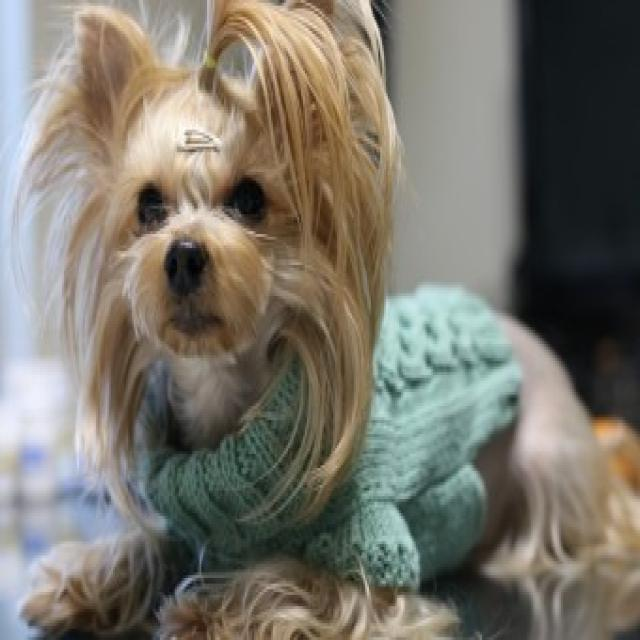cloth: (138, 286, 520, 589)
